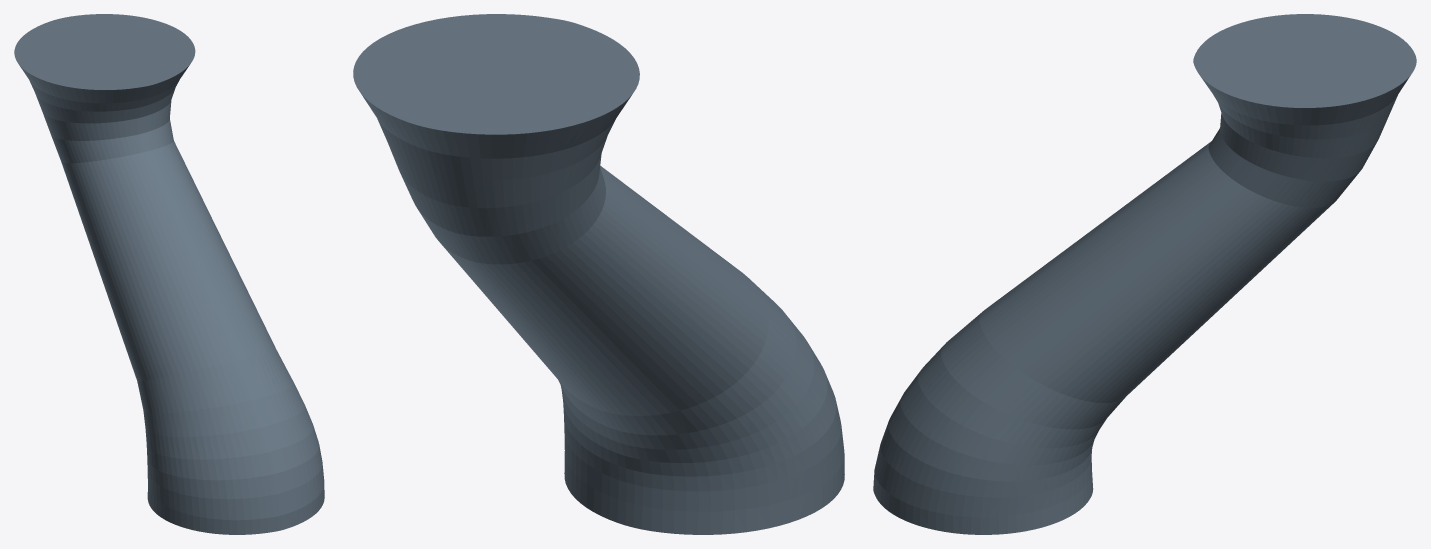
3 views of the same model, side by side, from view 1: azimuth 30°, elevation 25°; view 2: azimuth 150°, elevation 25°; view 3: azimuth 270°, elevation 25° (orthographic). The views are drawn at different scales.
Parts seen in each view (by area): view 1: MF0609_4_0; view 2: MF0609_4_0; view 3: MF0609_4_0.
Part boxes in pixels (x1,y1,x2,y2): MF0609_4_0: (14, 14, 324, 534); MF0609_4_0: (353, 14, 844, 534); MF0609_4_0: (873, 14, 1416, 534).
Bounding box in the file's own units: 101 × 245 × 213.
